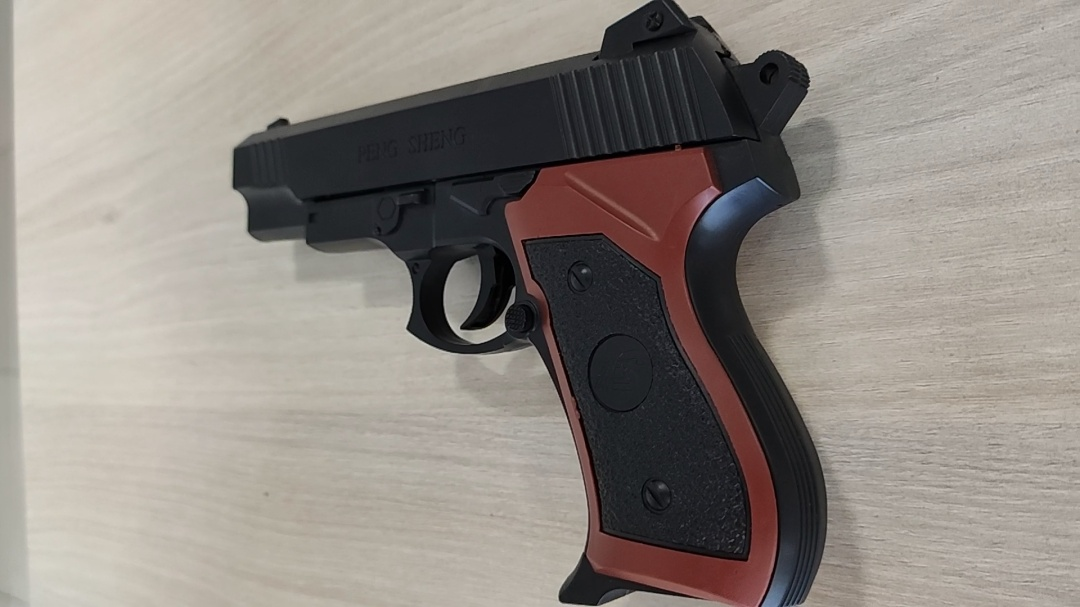gunw: (231, 7, 826, 607)
